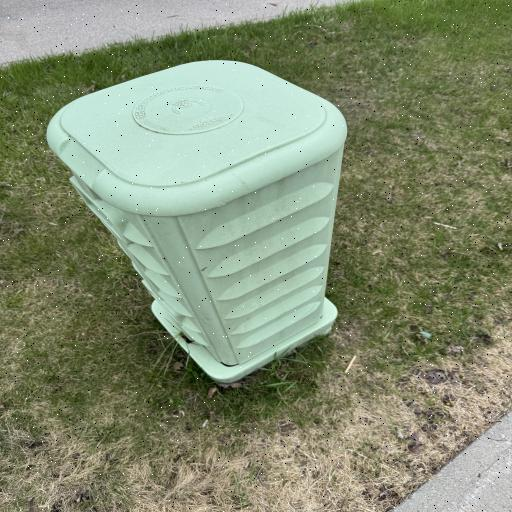Electrical Box: (46, 58, 348, 382)
